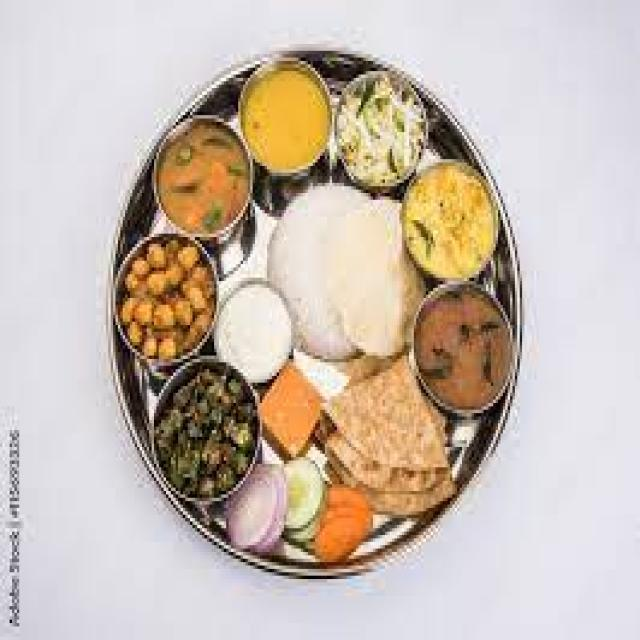curd: (215, 278, 299, 382)
dal: (234, 60, 338, 181), (410, 162, 499, 275)
papad: (270, 185, 411, 366)
raita: (213, 276, 297, 379)
sambar-rasam: (412, 275, 515, 420)
veg-fry: (150, 114, 254, 242)
